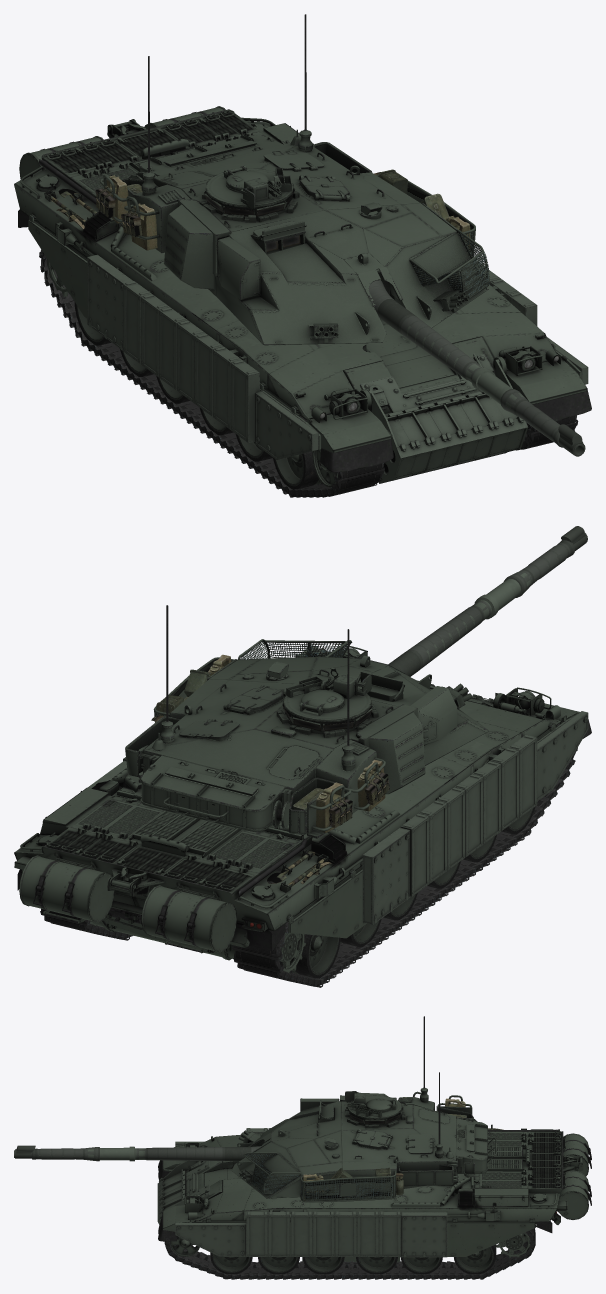
Rendered from challenger_1_main_battle_tank.glb.
3 views of the same model, one above another, from view 1: azimuth 30°, elevation 25°; view 2: azimuth 150°, elevation 25°; view 3: azimuth 270°, elevation 25° (orthographic). The views are drawn at different scales.
Visible parts, largest first — view 1: Object_3, Object_2, Object_9, Object_11, Object_4, Object_12, Object_10, Object_5, Object_7, Object_8; view 2: Object_2, Object_3, Object_9, Object_11, Object_4, Object_12, Object_10, Object_5, Object_7, Object_6; view 3: Object_3, Object_2, Object_9, Object_12, Object_11, Object_4, Object_10, Object_5, Object_13.
Boxes of the visible parts, left/top/right/bottom form: Object_3: left=99, top=129, right=489, bottom=345; Object_2: left=14, top=106, right=591, bottom=472; Object_9: left=87, top=254, right=588, bottom=483; Object_11: left=39, top=249, right=578, bottom=497; Object_4: left=369, top=280, right=585, bottom=456; Object_12: left=47, top=259, right=530, bottom=489; Object_10: left=28, top=215, right=581, bottom=449; Object_5: left=106, top=169, right=470, bottom=250; Object_7: left=48, top=172, right=380, bottom=238; Object_8: left=205, top=191, right=558, bottom=418; Object_2: left=14, top=645, right=591, bottom=960; Object_3: left=125, top=639, right=488, bottom=838; Object_9: left=87, top=645, right=588, bottom=924; Object_11: left=40, top=723, right=577, bottom=987; Object_4: left=388, top=526, right=587, bottom=676; Object_12: left=90, top=806, right=535, bottom=978; Object_10: left=288, top=651, right=575, bottom=938; Object_5: left=156, top=654, right=385, bottom=832; Object_7: left=151, top=715, right=389, bottom=886; Object_6: left=166, top=605, right=349, bottom=745; Object_3: left=231, top=1087, right=496, bottom=1202; Object_2: left=158, top=1124, right=591, bottom=1241; Object_9: left=157, top=1128, right=447, bottom=1257; Object_12: left=210, top=1232, right=530, bottom=1274; Object_11: left=164, top=1221, right=535, bottom=1279; Object_4: left=14, top=1145, right=260, bottom=1161; Object_10: left=175, top=1143, right=534, bottom=1262; Object_5: left=303, top=1097, right=466, bottom=1200; Object_13: left=169, top=1236, right=199, bottom=1256.
Bounding box in the file's own units: 154 × 191 × 432.
11 materials, 11 textured.
